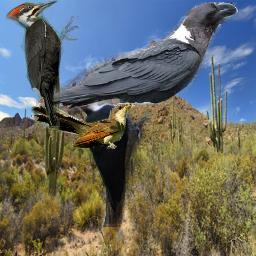Crow: (36, 2, 238, 111)
Cuckoo: (31, 103, 135, 149)
Woodpecker: (69, 81, 151, 227), (6, 0, 79, 129)
